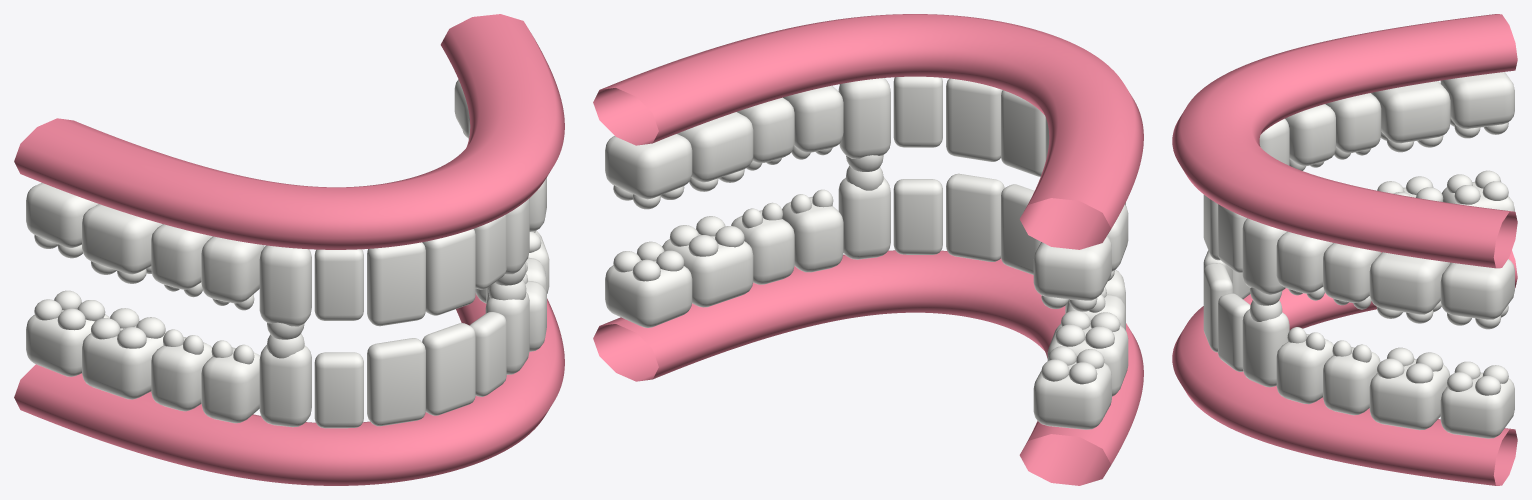
Rendered from jaw_front.glb.
3 renders of one model, left to right at view 1: azimuth 30°, elevation 25°; view 2: azimuth 150°, elevation 25°; view 3: azimuth 270°, elevation 25°, orthographic. The views are drawn at different scales.
Parts seen in each view (by area): view 1: gum_upper, gum_lower, T_lower_f_0a, T_upper_f_0a, T_lower_f_0b, T_upper_l_5a, T_upper_f_2a, T_lower_l_5a, T_lower_f_2a, T_upper_f_0b, T_lower_f_1a, T_lower_l_3a (+14 smaller); view 2: gum_upper, gum_lower, T_lower_f_0b, T_upper_r_6b, T_upper_f_0b, T_lower_r_6b, T_upper_l_6a, T_lower_l_6a, T_upper_f_2b, T_lower_f_1b, T_upper_r_5b, T_lower_f_2b (+12 smaller); view 3: gum_upper, gum_lower, T_upper_r_5b, T_upper_l_5a, T_lower_r_5b, T_upper_r_6b, T_upper_l_6a, T_lower_r_6b, T_lower_r_3b, T_lower_r_4b, T_lower_f_2b, T_upper_r_4b (+18 smaller).
Part boxes in pixels (bbox=[...]): gum_upper: bbox=[14, 14, 564, 249]; gum_lower: bbox=[14, 293, 564, 485]; T_lower_f_0a: bbox=[367, 338, 425, 426]; T_upper_f_0a: bbox=[367, 242, 425, 326]; T_lower_f_0b: bbox=[422, 323, 475, 415]; T_upper_l_5a: bbox=[82, 204, 162, 274]; T_upper_f_2a: bbox=[259, 245, 311, 326]; T_lower_l_5a: bbox=[82, 326, 166, 399]; T_lower_f_2a: bbox=[259, 345, 311, 427]; T_upper_f_0b: bbox=[422, 229, 475, 315]; T_lower_f_1a: bbox=[314, 352, 363, 428]; T_lower_l_3a: bbox=[201, 347, 260, 423]; gum_upper: bbox=[593, 14, 1143, 249]; gum_lower: bbox=[593, 250, 1143, 485]; T_lower_f_0b: bbox=[946, 173, 1004, 261]; T_upper_r_6b: bbox=[605, 134, 692, 199]; T_upper_f_0b: bbox=[946, 78, 1002, 161]; T_lower_r_6b: bbox=[605, 260, 692, 327]; T_upper_l_6a: bbox=[1033, 236, 1111, 300]; T_lower_l_6a: bbox=[1033, 360, 1111, 429]; T_upper_f_2b: bbox=[838, 78, 890, 158]; T_lower_f_1b: bbox=[893, 179, 942, 254]; T_upper_r_5b: bbox=[677, 112, 753, 182]; T_lower_f_2b: bbox=[838, 177, 890, 259]; gum_upper: bbox=[1172, 14, 1517, 268]; gum_lower: bbox=[1172, 250, 1517, 485]; T_upper_r_5b: bbox=[1369, 252, 1450, 314]; T_upper_l_5a: bbox=[1371, 81, 1450, 143]; T_lower_r_5b: bbox=[1369, 358, 1450, 430]; T_upper_r_6b: bbox=[1440, 259, 1514, 319]; T_upper_l_6a: bbox=[1440, 72, 1514, 128]; T_lower_r_6b: bbox=[1440, 372, 1514, 438]; T_lower_r_3b: bbox=[1276, 334, 1333, 404]; T_lower_r_4b: bbox=[1323, 347, 1380, 415]; T_lower_f_2b: bbox=[1242, 309, 1289, 387]; T_upper_r_4b: bbox=[1323, 243, 1380, 302].
Size of the model in its own units: 3.03 by 1.59 by 1.9.
